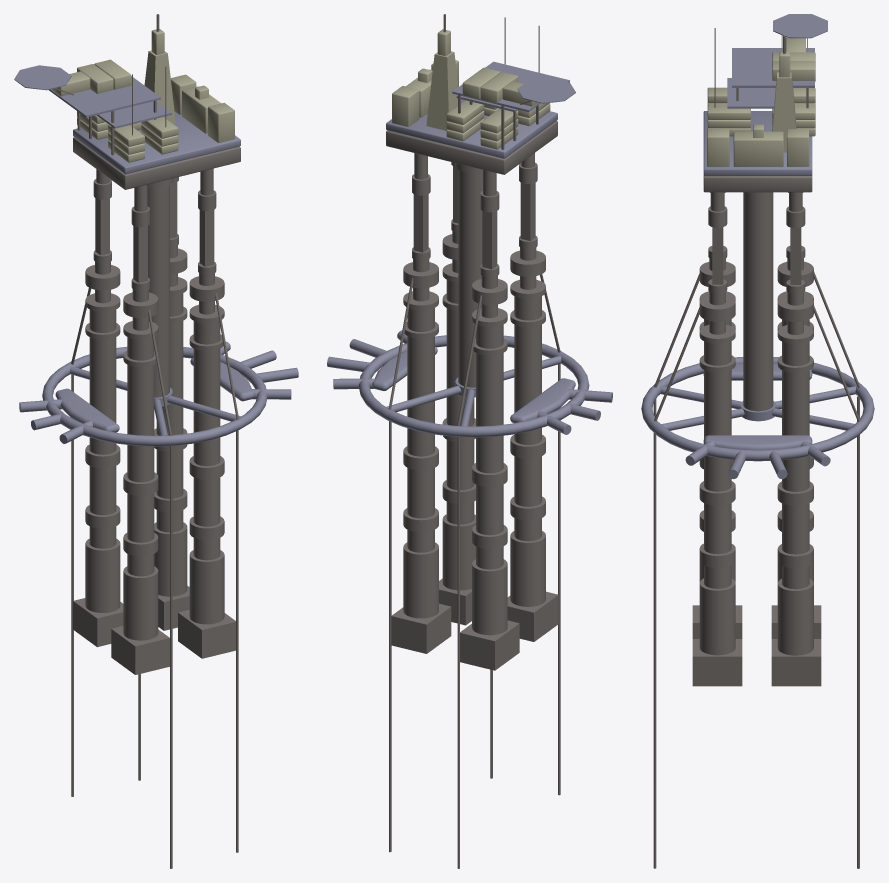
The model's file is manu_one_low.fbx.
3 renders of one model, left to right at view 1: azimuth 30°, elevation 25°; view 2: azimuth 150°, elevation 25°; view 3: azimuth 270°, elevation 25°, orthographic. The views are drawn at different scales.
Visible parts, largest first — view 1: manu_one_sub_level, manu_one_top_level; view 2: manu_one_sub_level, manu_one_top_level; view 3: manu_one_sub_level, manu_one_top_level.
Part boxes in pixels (x1,y1,x2,y2): manu_one_sub_level: [19, 168, 298, 868]; manu_one_top_level: [14, 14, 240, 189]; manu_one_sub_level: [327, 153, 612, 868]; manu_one_top_level: [386, 14, 575, 174]; manu_one_sub_level: [641, 192, 874, 868]; manu_one_top_level: [703, 14, 827, 192].
Size of the model in its own units: 10857 by 32706 by 8400.
